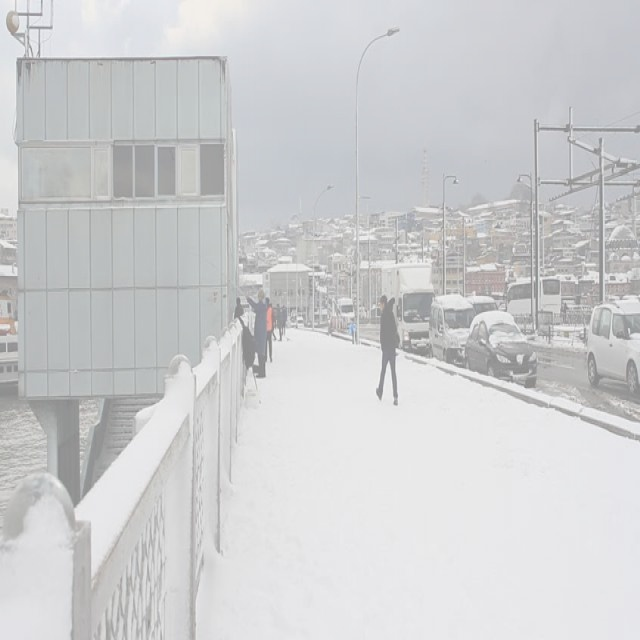pessoa: (374, 293, 400, 407), (245, 288, 265, 375), (264, 296, 274, 364), (276, 305, 284, 343), (269, 301, 276, 340), (234, 296, 244, 320), (280, 304, 287, 336), (274, 302, 280, 326)
